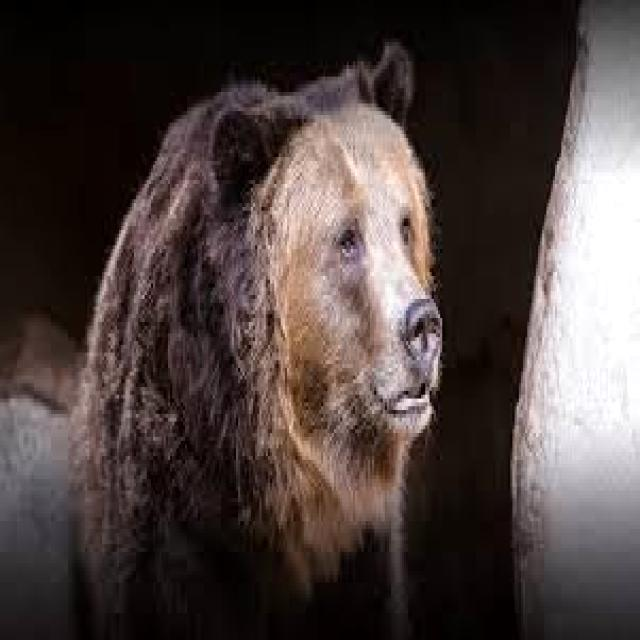bear: (73, 55, 443, 634)
